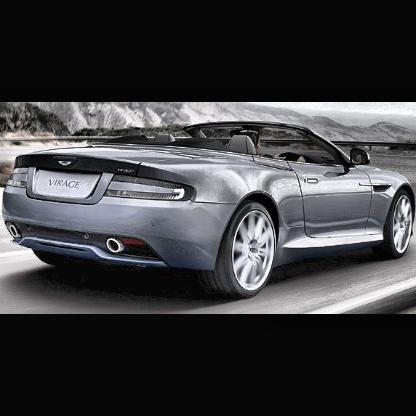Aston Martin Virage Convertible 2012: (4, 119, 416, 301)
